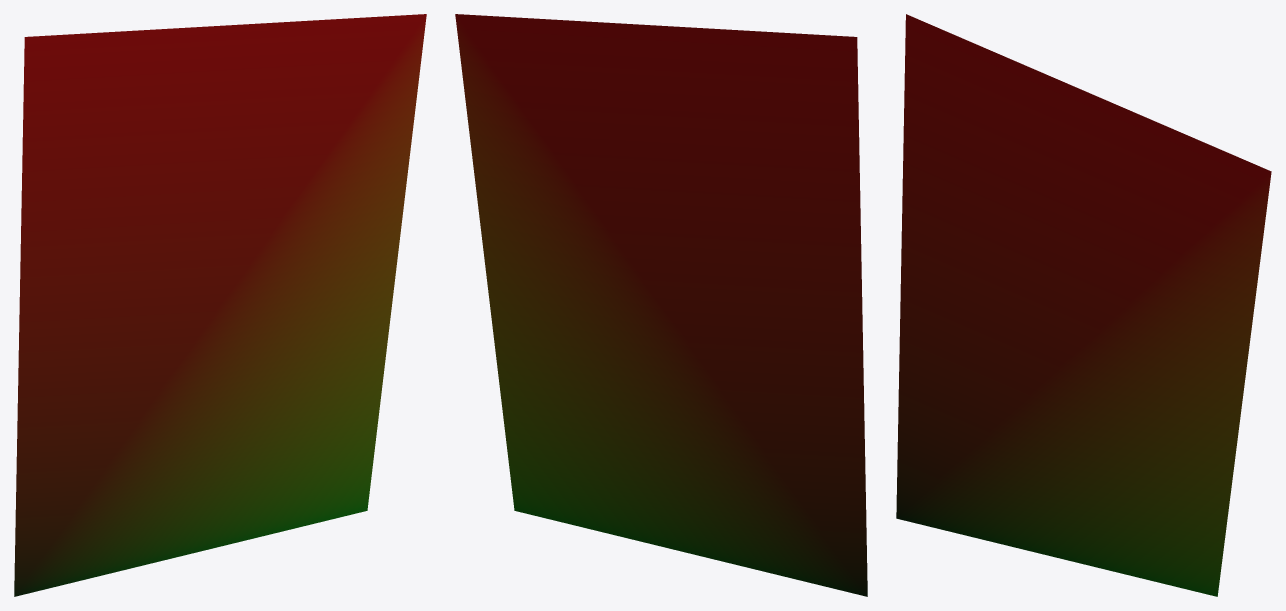
Rendered from Var11_LOD3.fbx.
The picture shows the model from 3 angles, left to right: view 1: azimuth 30°, elevation 25°; view 2: azimuth 150°, elevation 25°; view 3: azimuth 330°, elevation 25°; orthographic projection. The views are drawn at different scales.
Parts seen in each view (by area): view 1: _a31c_Var11_LOD3; view 2: _a31c_Var11_LOD3; view 3: _a31c_Var11_LOD3.
Part boxes in pixels (<box>): _a31c_Var11_LOD3: <box>14,14,426,596</box>; _a31c_Var11_LOD3: <box>455,14,867,596</box>; _a31c_Var11_LOD3: <box>896,14,1271,596</box>.
Bounding box in the file's own units: 35.29 × 45.56 × 1.9e-05.
